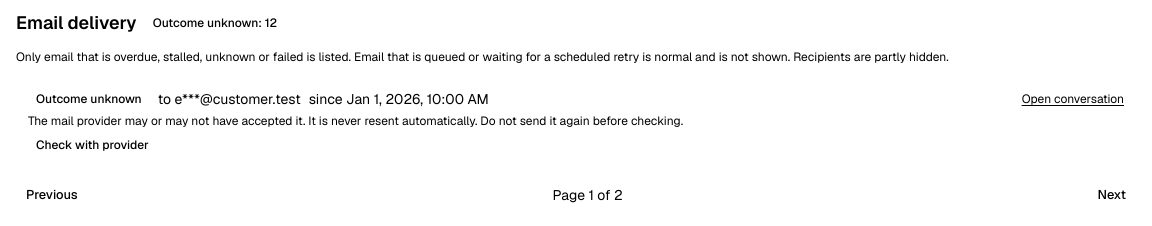
Test: EmailAttentionCard › paginates in bounded pages
Expected: the text "Page 1 of 2" is shown, [552, 185, 623, 205]
Click the button "Next" at (1112, 195), box [1088, 181, 1136, 209]
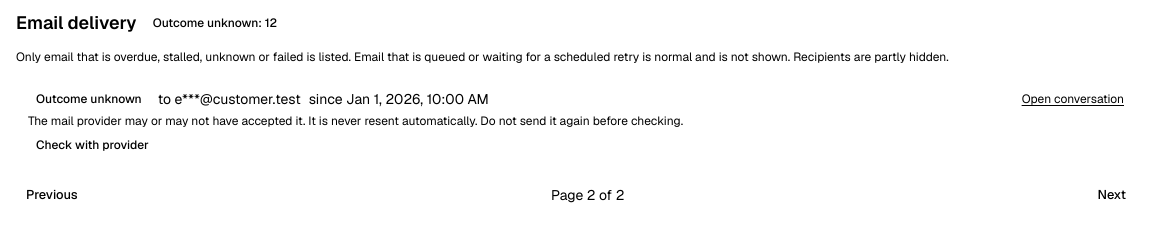
Expected: the text "Page 2 of 2" is shown, [551, 185, 624, 205]
